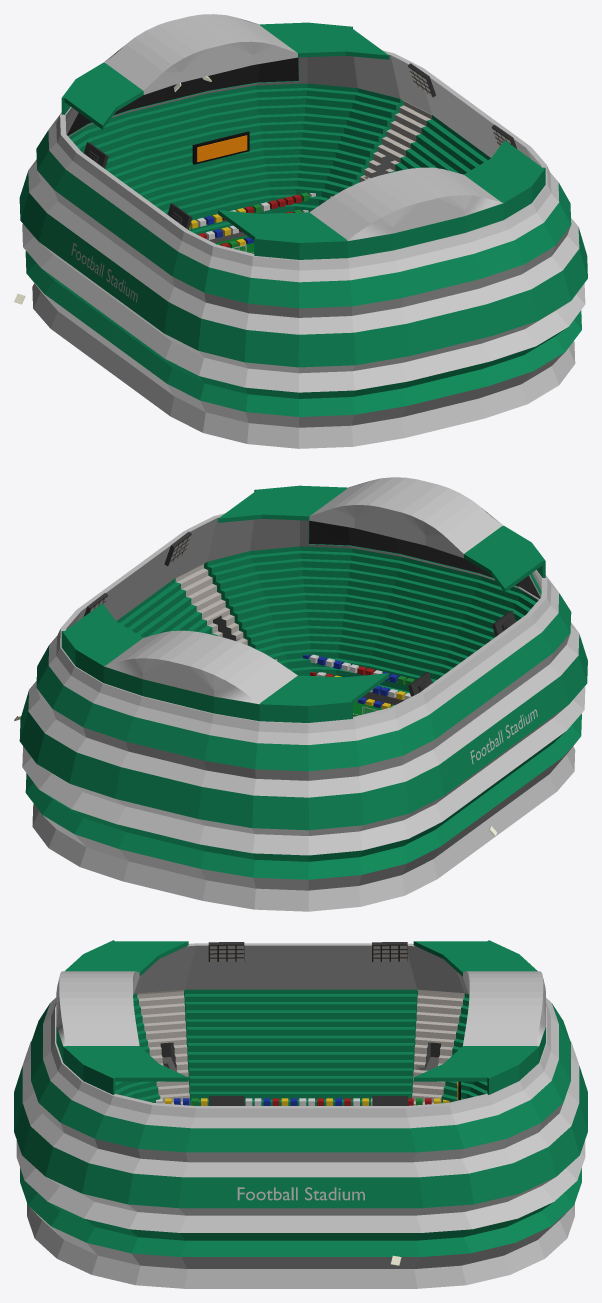
The model's file is stadium.obj.
3 renders of one model, top to bottom at view 1: azimuth 30°, elevation 25°; view 2: azimuth 150°, elevation 25°; view 3: azimuth 270°, elevation 25°, orthographic. The views are drawn at different scales.
Visible parts, largest first — view 1: Stadium_Structure_Mesh, Crowd_Blocks_Mesh, Scoreboard_Mesh; view 2: Stadium_Structure_Mesh, Crowd_Blocks_Mesh; view 3: Stadium_Structure_Mesh, Crowd_Blocks_Mesh, LightTower_SW_Mesh, LightTower_NW_Mesh.
Part boxes in pixels (left/top/right/bottom): Stadium_Structure_Mesh: left=19, top=14, right=587, bottom=448; Crowd_Blocks_Mesh: left=189, top=192, right=331, bottom=247; Scoreboard_Mesh: left=192, top=131, right=249, bottom=164; Stadium_Structure_Mesh: left=19, top=477, right=587, bottom=911; Crowd_Blocks_Mesh: left=275, top=654, right=414, bottom=709; Stadium_Structure_Mesh: left=14, top=940, right=587, bottom=1288; Crowd_Blocks_Mesh: left=151, top=1098, right=449, bottom=1105; LightTower_SW_Mesh: left=208, top=942, right=244, bottom=961; LightTower_NW_Mesh: left=372, top=942, right=407, bottom=961.
Size of the model in its own units: 28.26 by 12.11 by 30.
12 materials, 1 textured.
